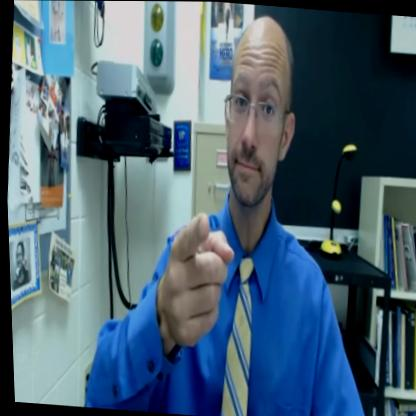HowAreYou: (112, 5, 341, 416)
